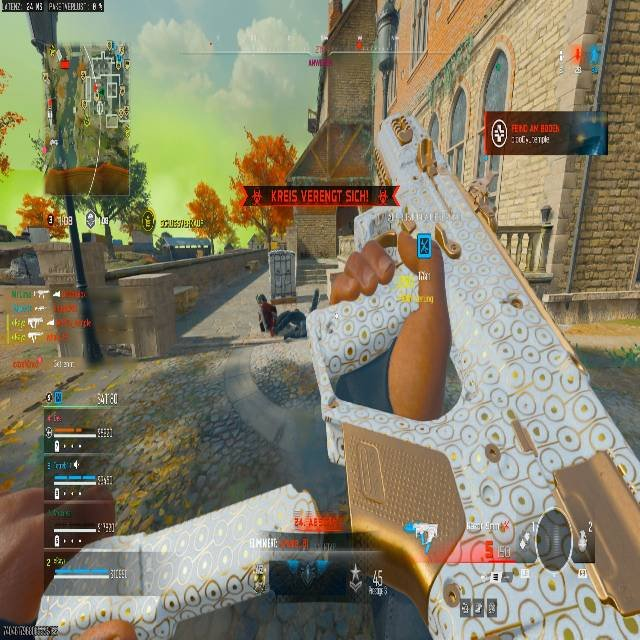head: (256, 293, 266, 304)
player: (187, 182, 227, 252)
